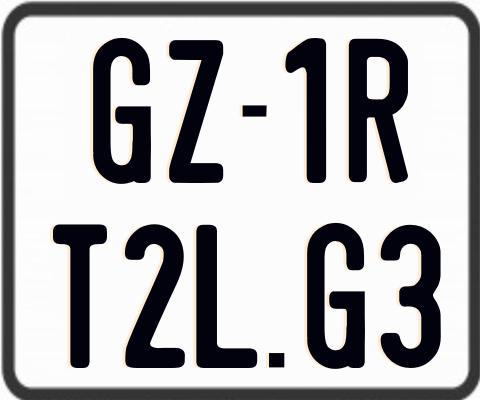1: (285, 35, 331, 180)
2: (122, 223, 182, 370)
3: (379, 222, 439, 371)
G: (306, 221, 365, 371), (92, 37, 151, 184)
L: (193, 222, 256, 368)
R: (346, 38, 406, 182)
T: (52, 222, 111, 367)
Z: (169, 39, 225, 186)
